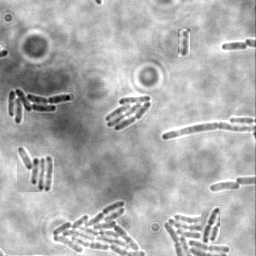Dividing: (161, 123, 255, 142), (201, 206, 220, 244), (221, 41, 248, 52)
Microcolony: (51, 200, 147, 255), (162, 212, 231, 255), (8, 89, 72, 126), (17, 146, 54, 192), (106, 96, 153, 132), (208, 182, 240, 193)
Rod: (178, 29, 190, 57)
